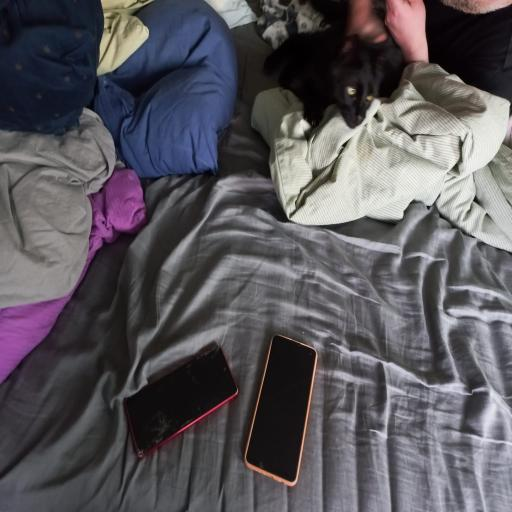phone: (124, 345, 236, 457), (244, 336, 316, 485)
